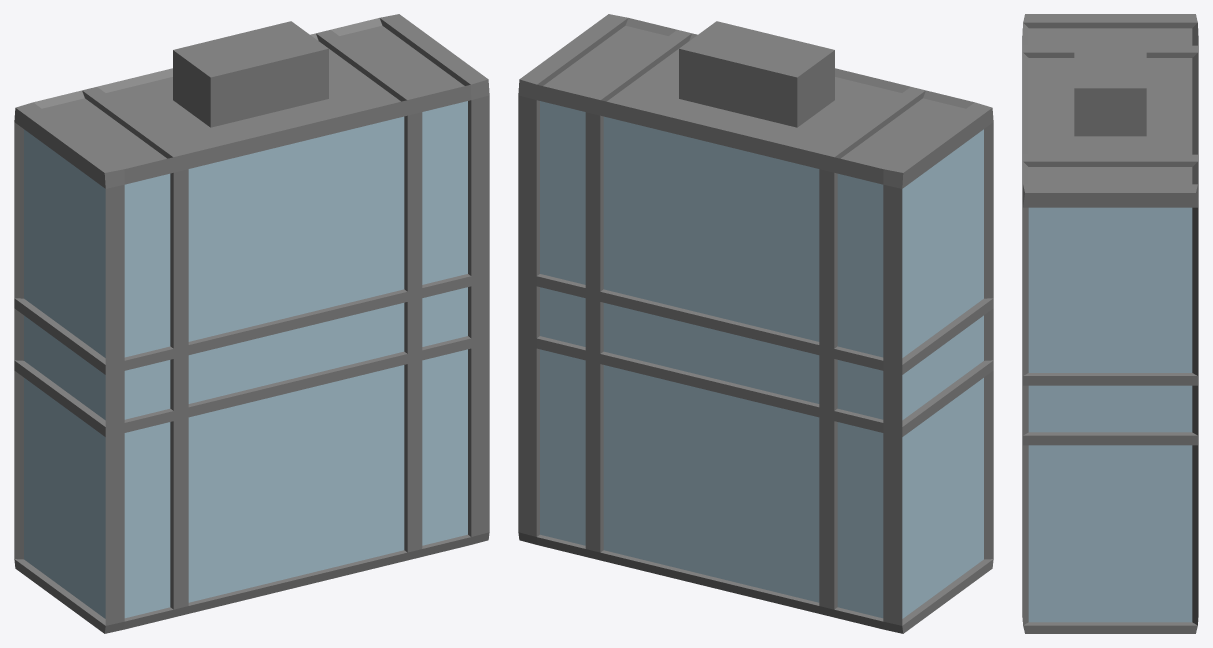
Rendered from skyscraper_03.fbx.
3 views of the same model, side by side, from view 1: azimuth 30°, elevation 25°; view 2: azimuth 150°, elevation 25°; view 3: azimuth 270°, elevation 25° (orthographic). The views are drawn at different scales.
Parts seen in each view (by area): view 1: skyscraper2; view 2: skyscraper2; view 3: skyscraper2.
Part boxes in pixels (x1=…): skyscraper2: x1=14, y1=14, x2=489, y2=633; skyscraper2: x1=518, y1=14, x2=993, y2=633; skyscraper2: x1=1022, y1=14, x2=1198, y2=633.
Bounding box in the file's own units: 2715 × 3416 × 1128.
